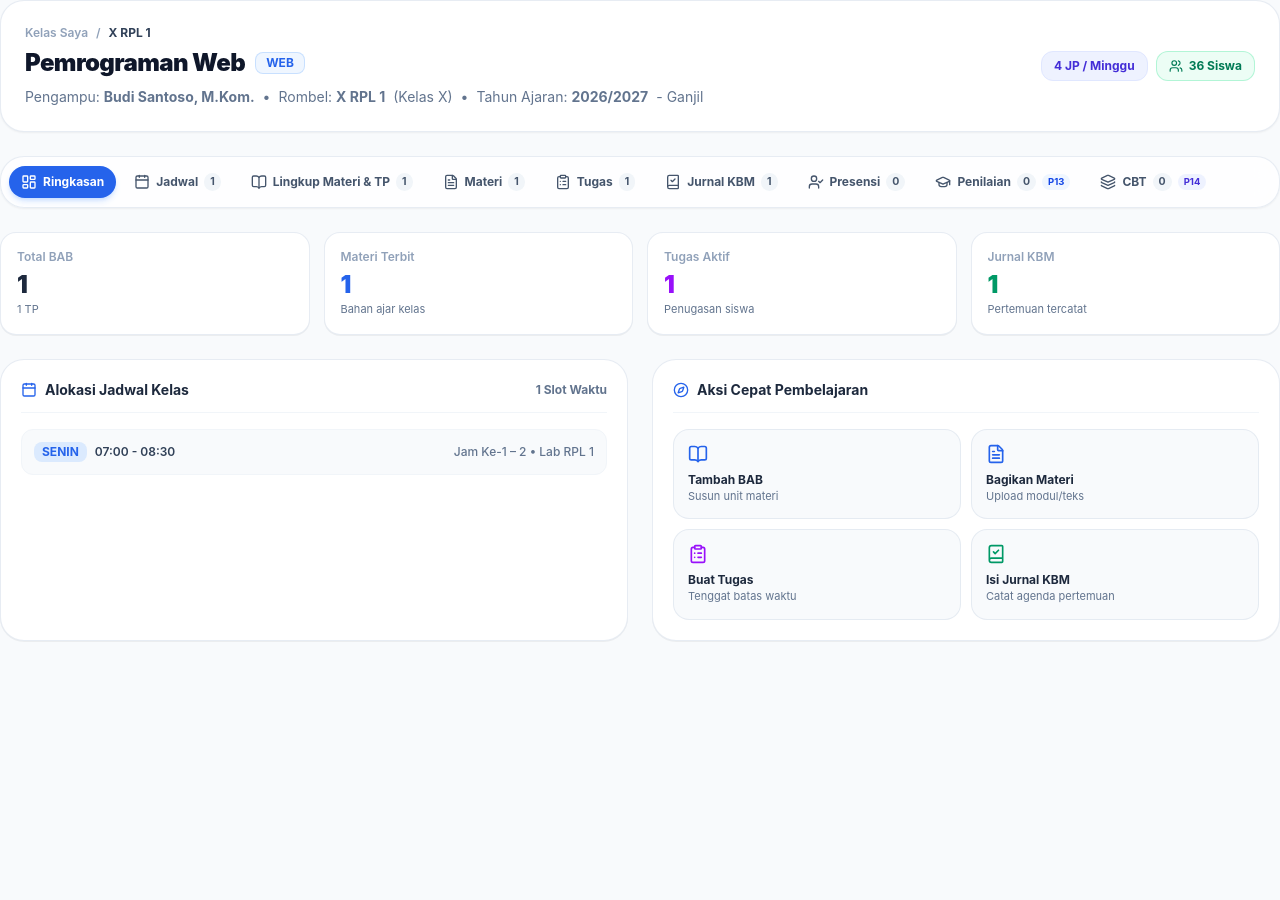
Test: M11 Learning Presentation Views › ClassWorkspaceView (/kelas-saya/[id]) › switches to Lingkup Materi & TP tab and renders BAB tree
The image size is (1280, 900).
Click the button "Lingkup Materi & TP 1" at coordinates (332, 182), box [239,165,425,199]
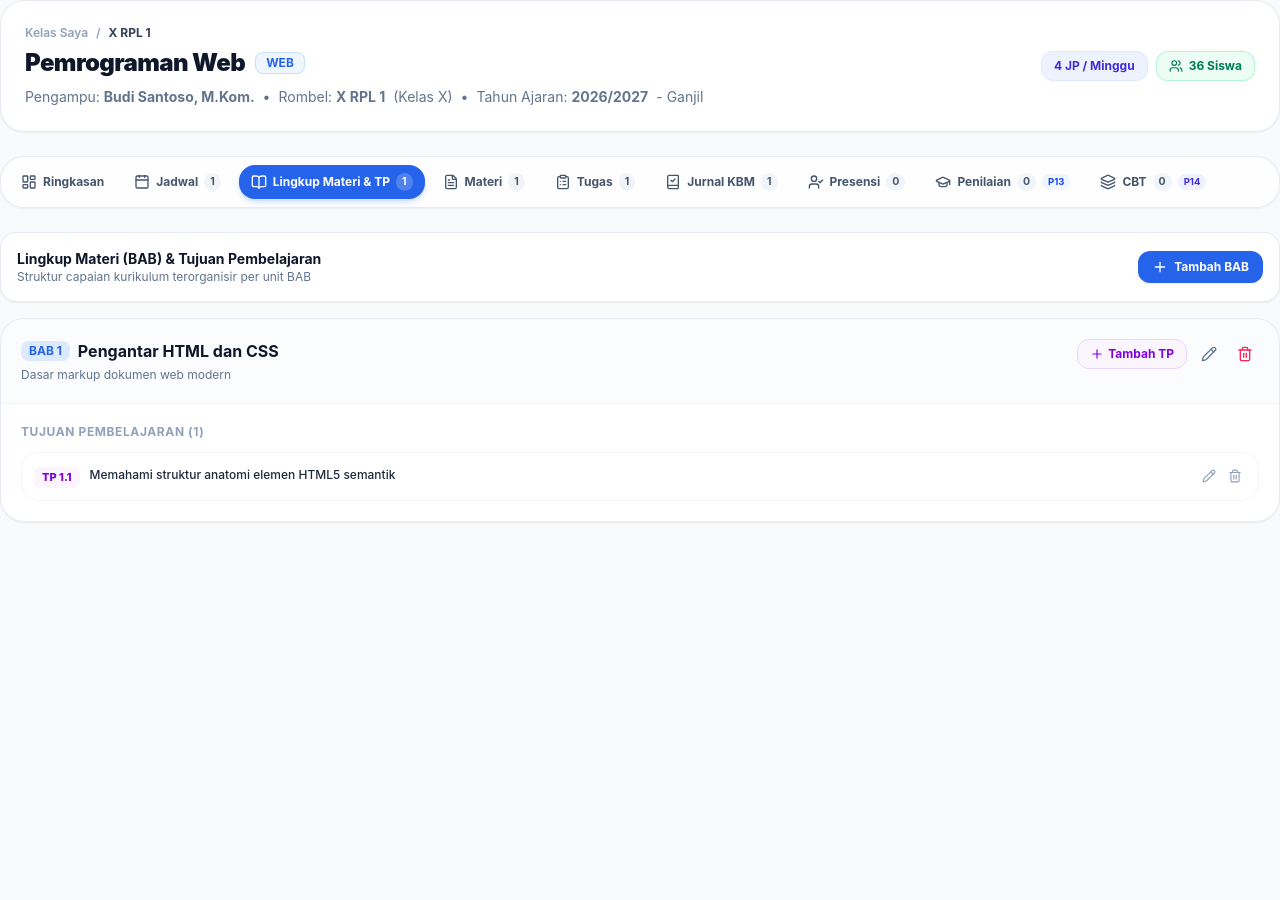
expect the button "Tambah BAB" is shown: met, box [1138,251,1263,283]
expect the heading "Pengantar HTML dan CSS" is shown: met, box [78,339,279,363]
expect the text "Memahami struktur anatomi elemen HTML5 semantik" is shown: met, box [90,465,395,484]
